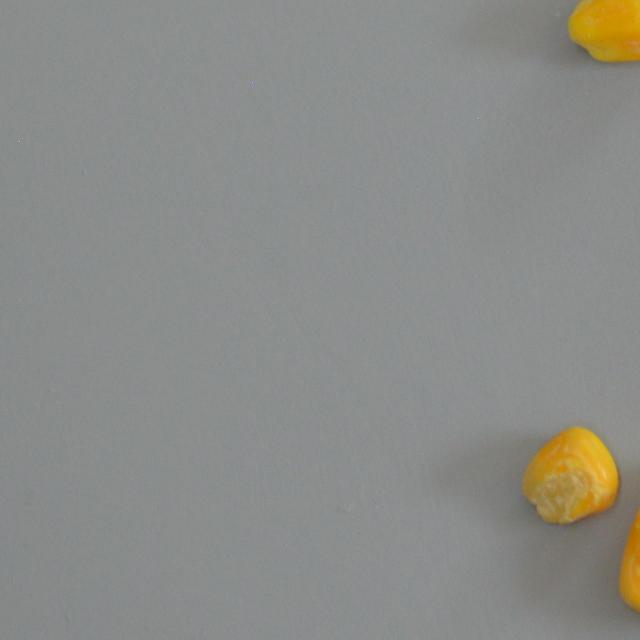no_desgerminado: (520, 426, 620, 527), (618, 454, 640, 628)
pelicula: (565, 0, 640, 63)
